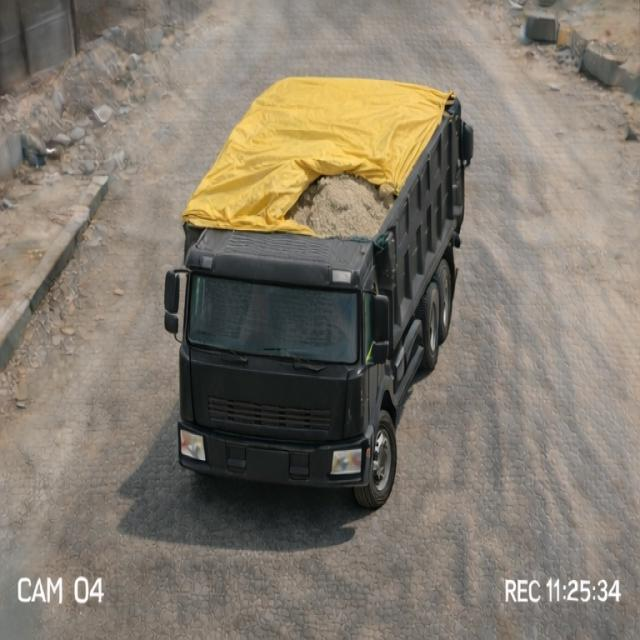Box: (191, 70, 468, 254)
Truck: (161, 64, 494, 513)
